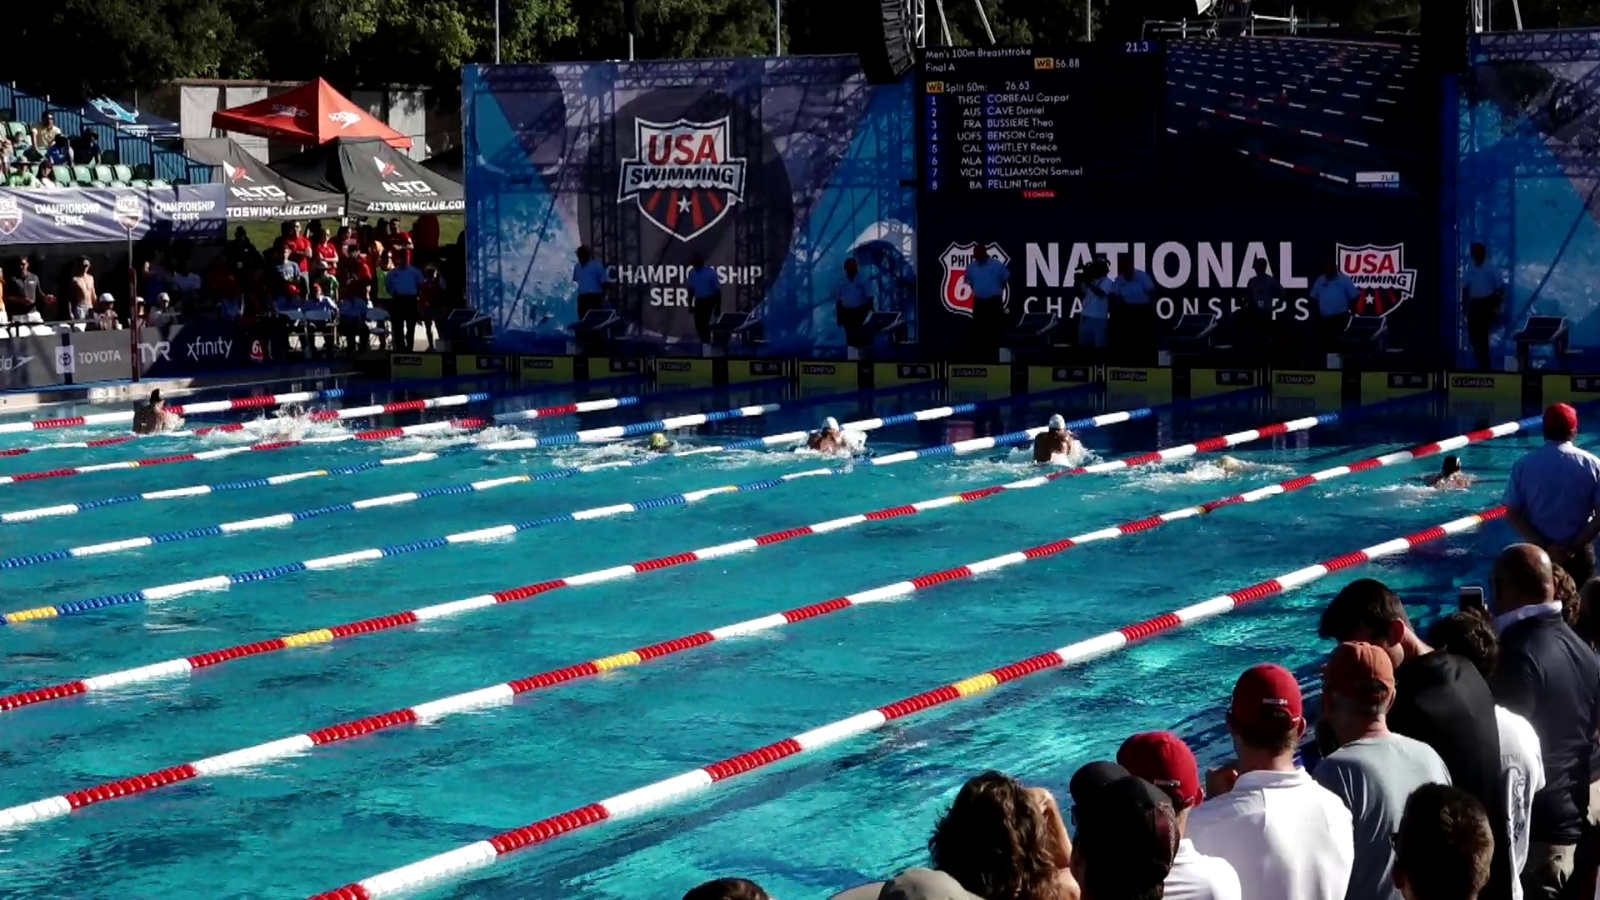swimmerw: (1003, 412, 1095, 484), (1393, 455, 1488, 516), (564, 425, 684, 466), (773, 418, 866, 468), (395, 421, 529, 456), (1175, 451, 1276, 497), (212, 418, 316, 458), (120, 391, 184, 444)
